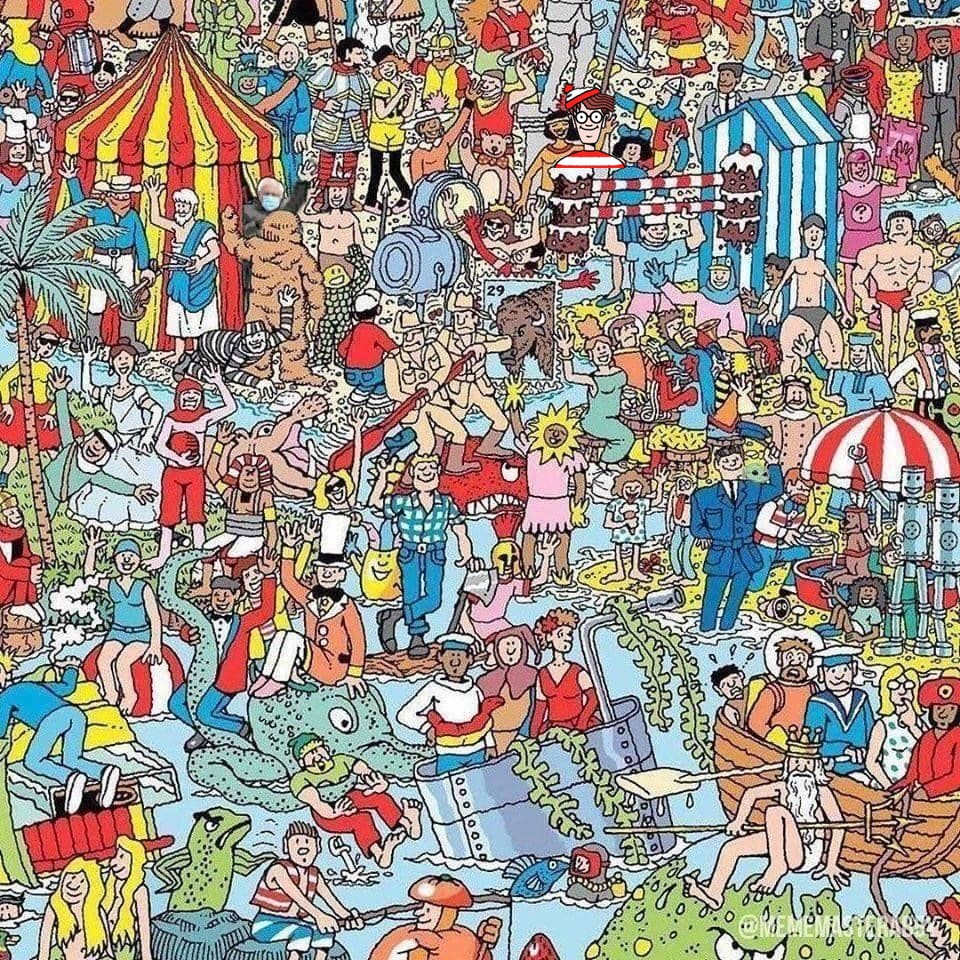waldo: (553, 82, 626, 168)
